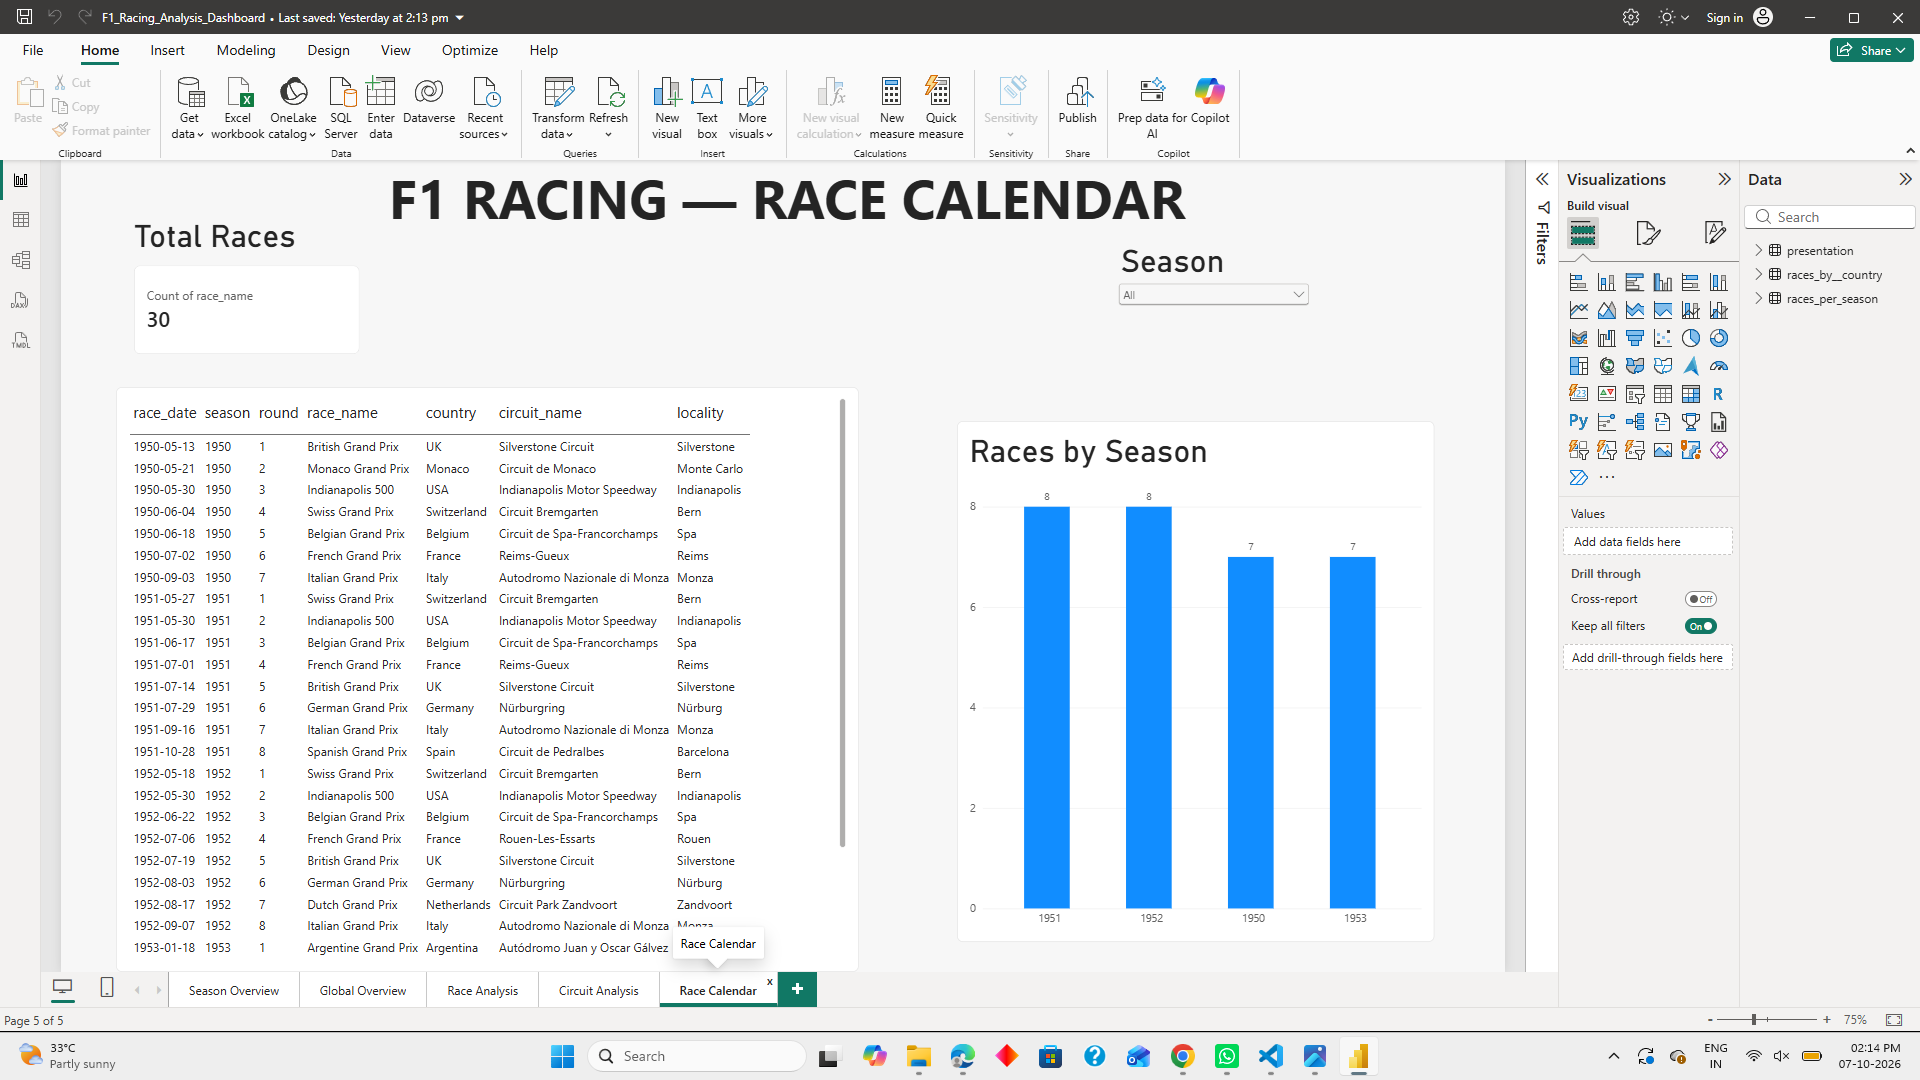

This screenshot's page, from the dashboard's own definition file:
{"tool":"powerbi","page":{"name":"Race Calendar","canvas":[1920,1080],"ordinal":4},"visuals":[{"type":"slicer","fields":{"Values":["presentation.season"]},"box":[1401.7,110,262.5,147.5],"z":0},{"type":"clusteredColumnChart","title":"Races by Season","fields":{"Category":["presentation.season"],"Y":["CountNonNull(presentation.race_name)"]},"box":[1191.7,346.7,635,693.3],"z":1000},{"type":"tableEx","fields":{"Values":["presentation.race_date","presentation.season","presentation.round","presentation.race_name","presentation.country","presentation.circuit_name","presentation.locality"]},"box":[73.3,301.7,988.3,778.3],"z":2000},{"type":"cardVisual","title":"Total Races","fields":{"Data":["CountNonNull(presentation.race_name)"]},"box":[96.7,76.7,300,181.8],"z":3000},{"type":"textbox","box":[10,0,1910,120],"z":4000}]}

Visuals, with their boxes on the page's 1920x1080 design canvas (x1, y1, x2, y2). These are canvas units, not pixel positions in the 1920x1080 screenshot, which may show the page scaled, cropped or inside an application window:
slicer - presentation.season: 1402:110:1664:258
"Races by Season" clusteredColumnChart: 1192:347:1827:1040
tableEx - presentation.race_date x presentation.season: 73:302:1062:1080
"Total Races" cardVisual: 97:77:397:258
textbox: 10:0:1920:120
